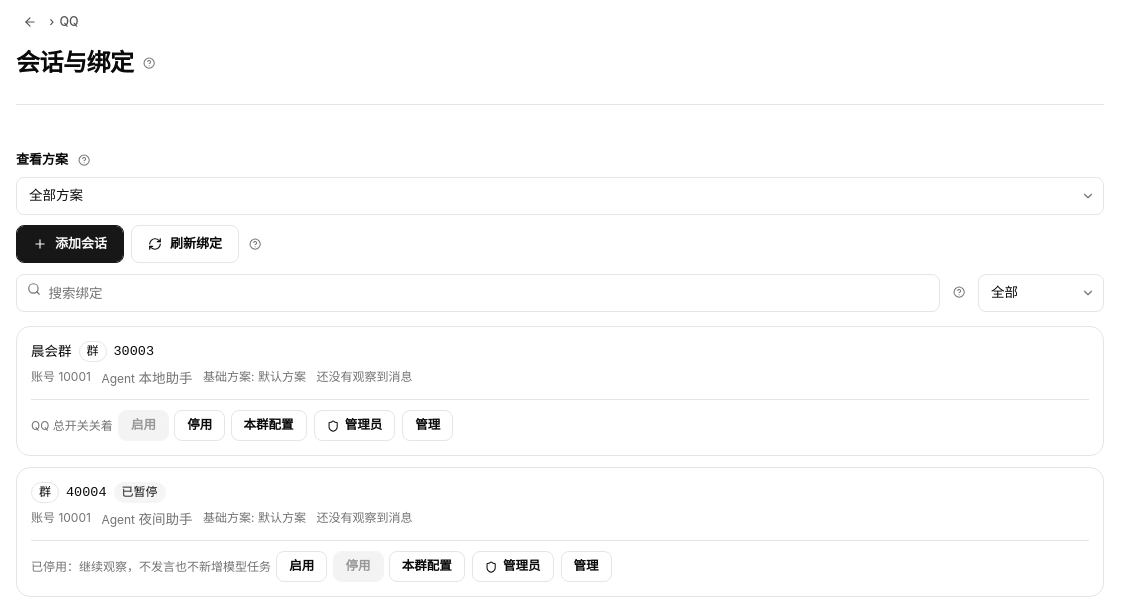
Test: 显示名只来自同绑定同 Agent 的摘要：不借另一群的显示名；暂停徽标只标真实 paused
This screenshot has width=1121, height=614.
Expected: the text "晨会群" is shown, [31, 342, 72, 361]
Expected: the text "旧助手群名" is not shown
Note: 搜索同样只命中正确配对的摘要。
In the field named "搜索会话绑定": (478, 292) [16, 274, 940, 312], type "旧助手群名"
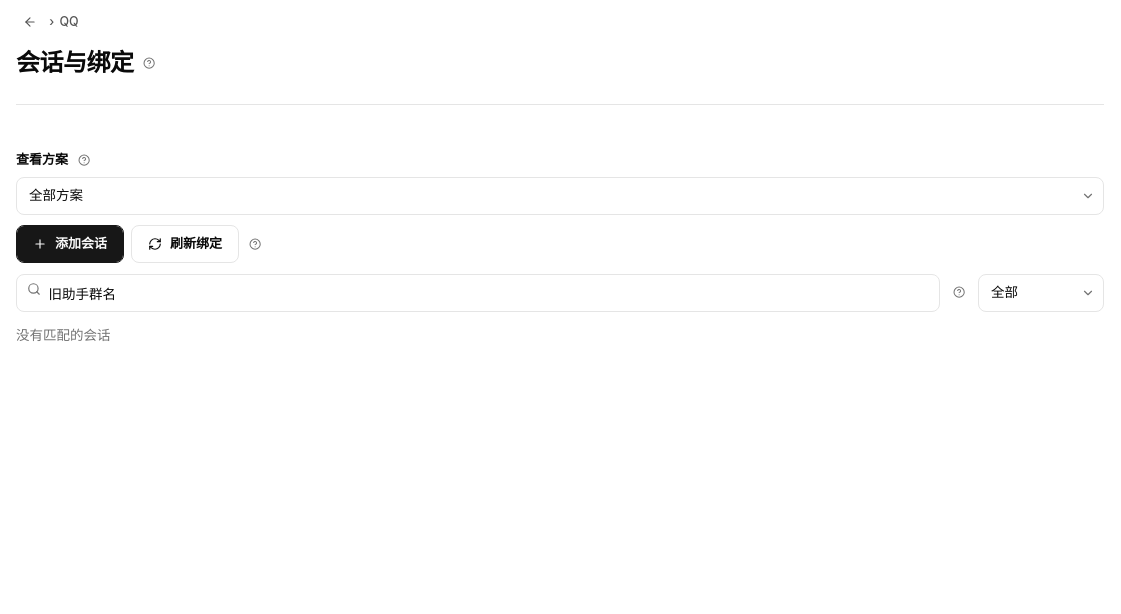
Expected: the text "30003" is gone
Expected: the text "40004" is gone
Expected: the text "没有匹配的会话" is shown, [16, 326, 110, 342]
